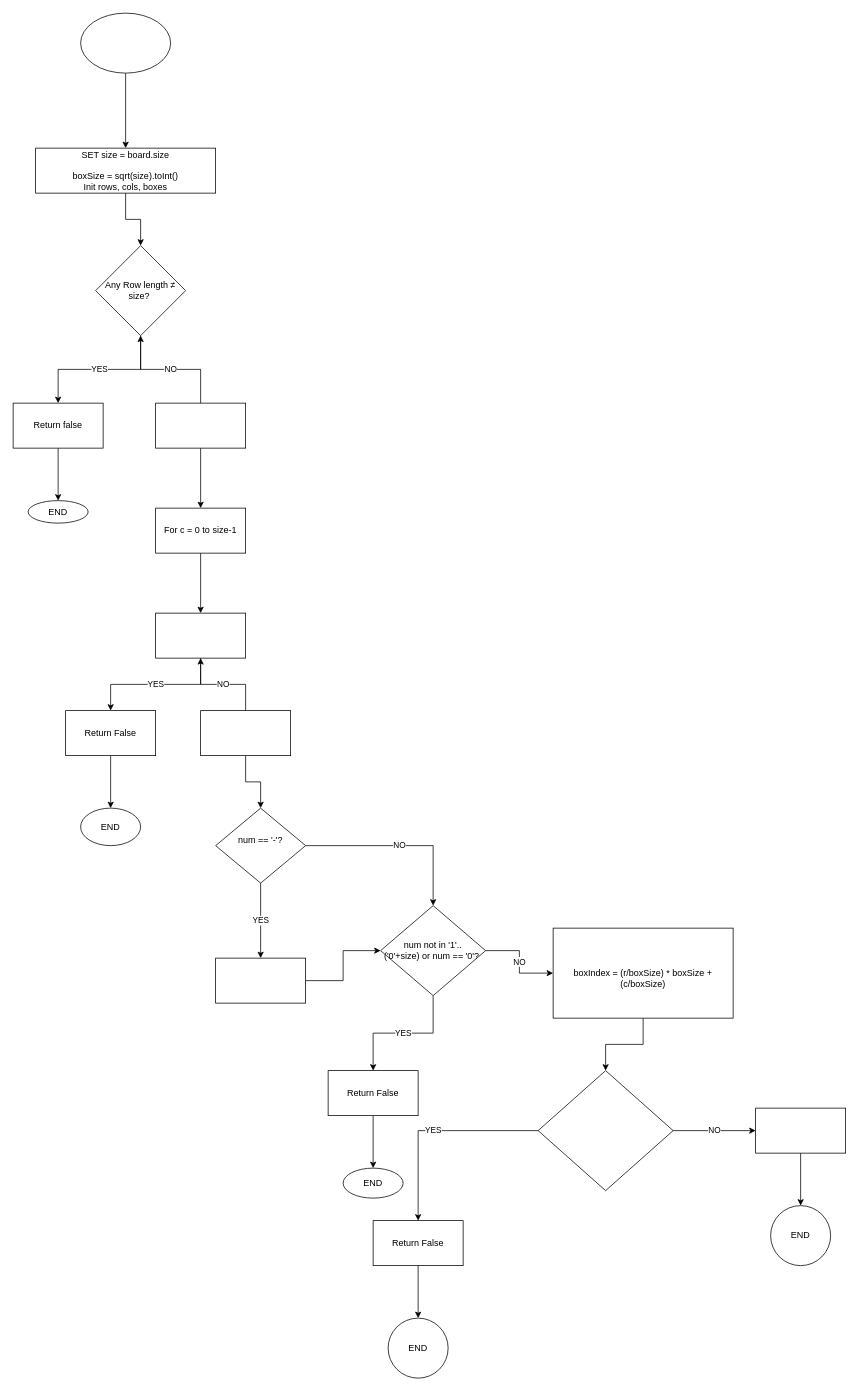
Image size: 859x1391. Some labels were removed from this diagram. The shapes that lost their labels are listed below. From the top down, each one's centre as x and y in pixels, then its label:
the point at 125,42: START
the point at 200,425: For r = 0 to size -1
the point at 200,635: c >= board[r].length?
the point at 245,733: num = board[r][c]
the point at 260,980: Continue
the point at 605,1130: Duplicates in rows[r], cols[c] or boxes[boxIdx]
the point at 800,1130: Return True
